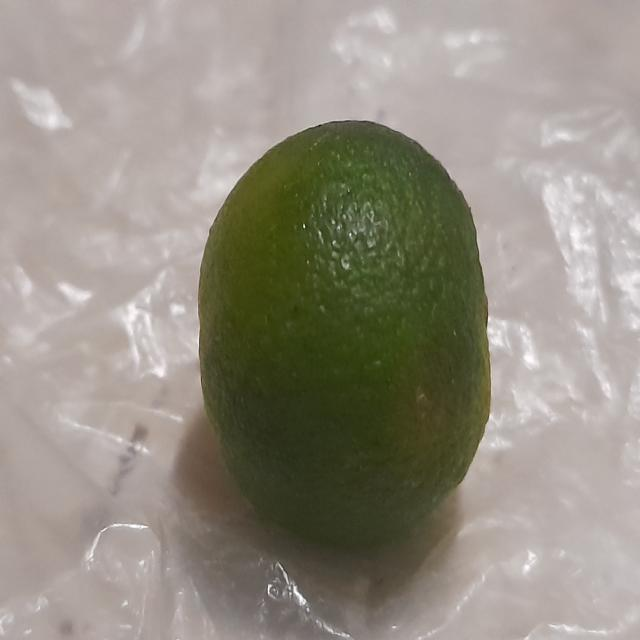heathy: (192, 112, 500, 568)
